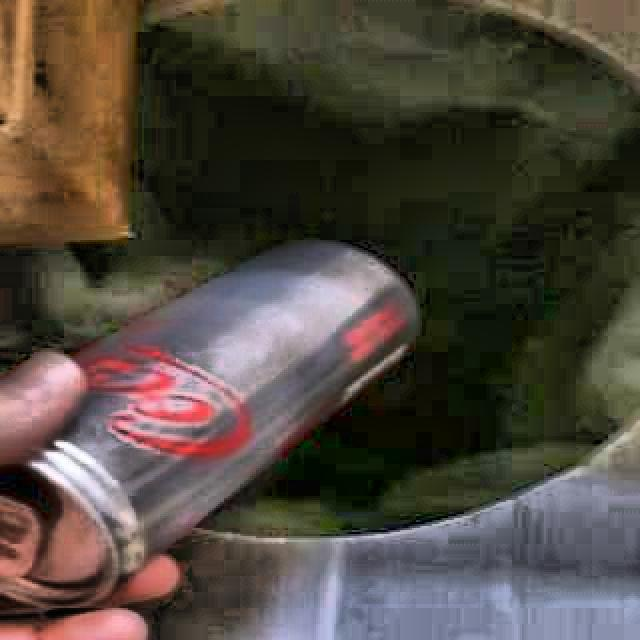metal: (0, 242, 419, 612)
